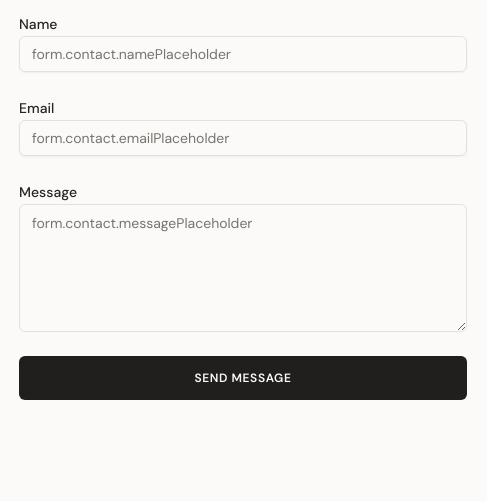
Scenario: ContactForm › shows validation errors for empty submit
The width and height of the screenshot is (487, 501).
Click the button "Send message" at (243, 378), box [19,356,467,400]
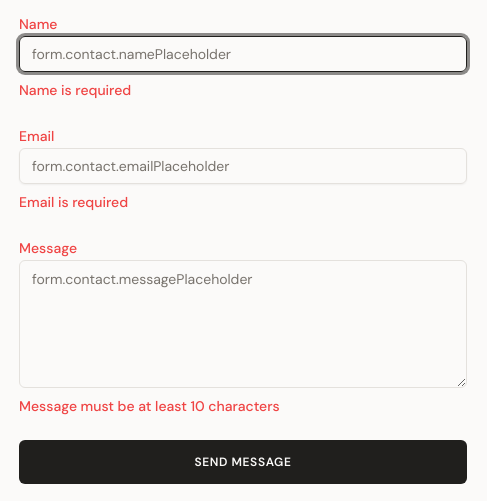
Expected: the text "Name is required" is shown, [19,81,131,99]
